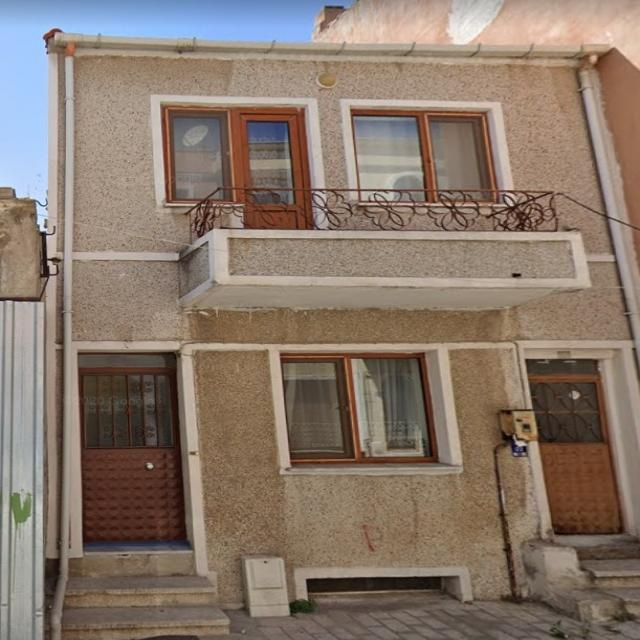Building: (44, 29, 640, 640)
